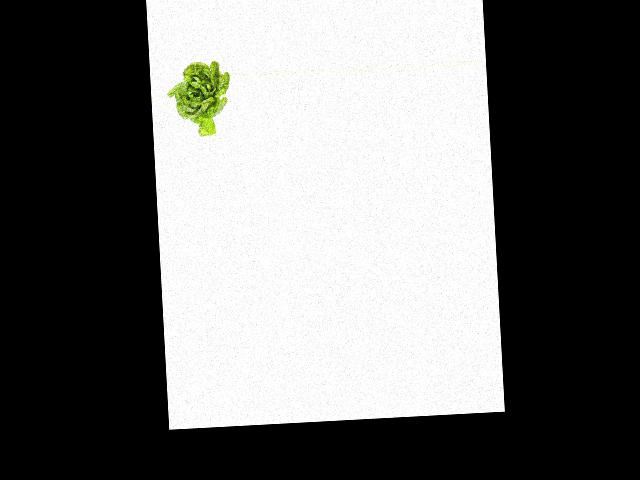lettuce: (165, 59, 230, 140)
